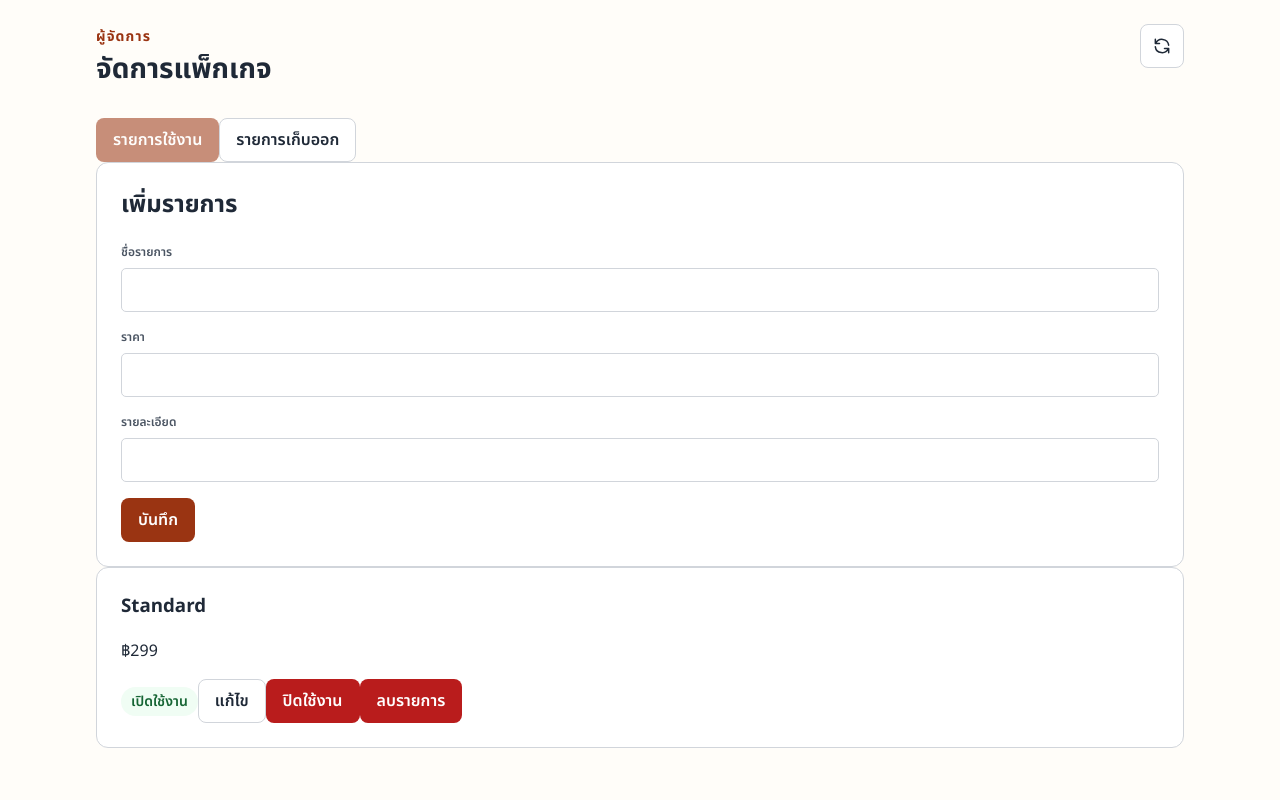
Test: removes a package only after confirmation and prevents duplicate delete requests
This screenshot has width=1280, height=800.
Expected: the heading "Standard" is shown, [121, 592, 206, 620]
Click the button "ลบรายการ" at (411, 701), box [360, 679, 462, 723]
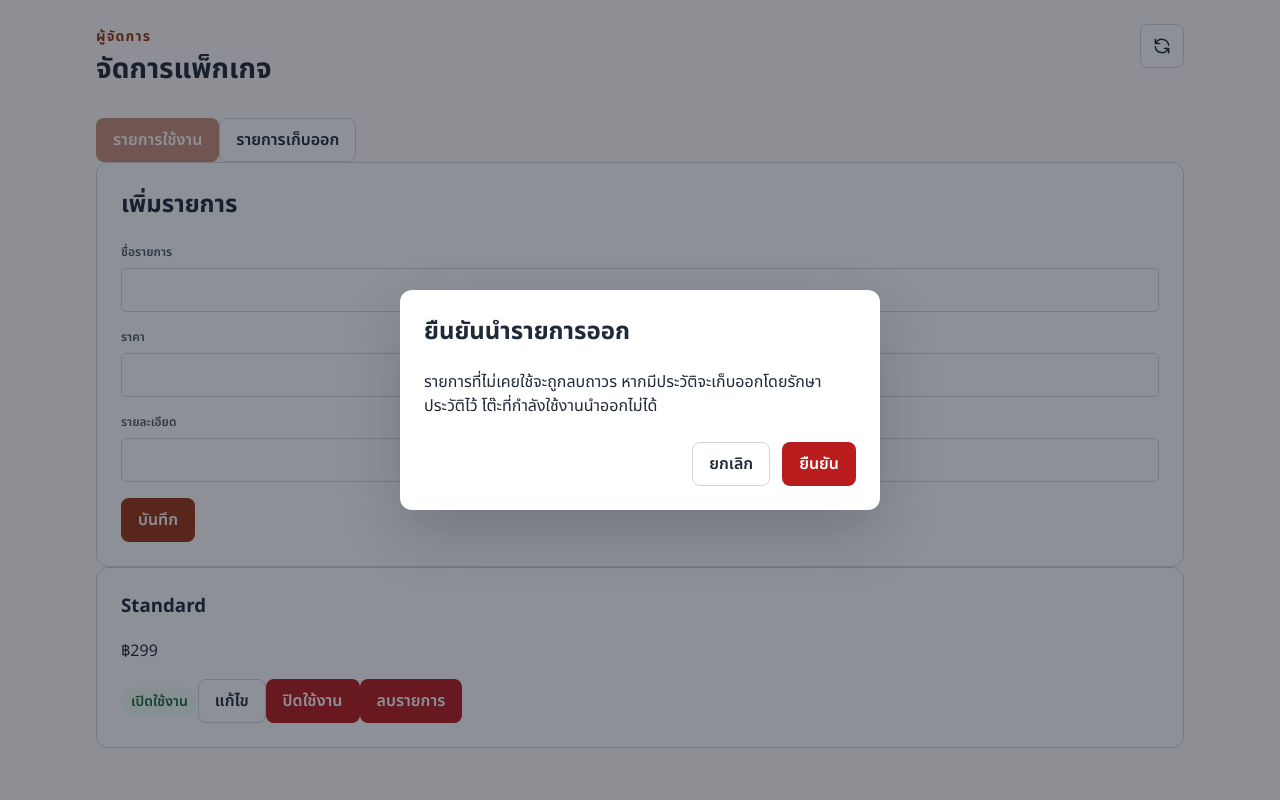
Click the button "ยืนยัน" at (819, 464), box [782, 442, 856, 486]
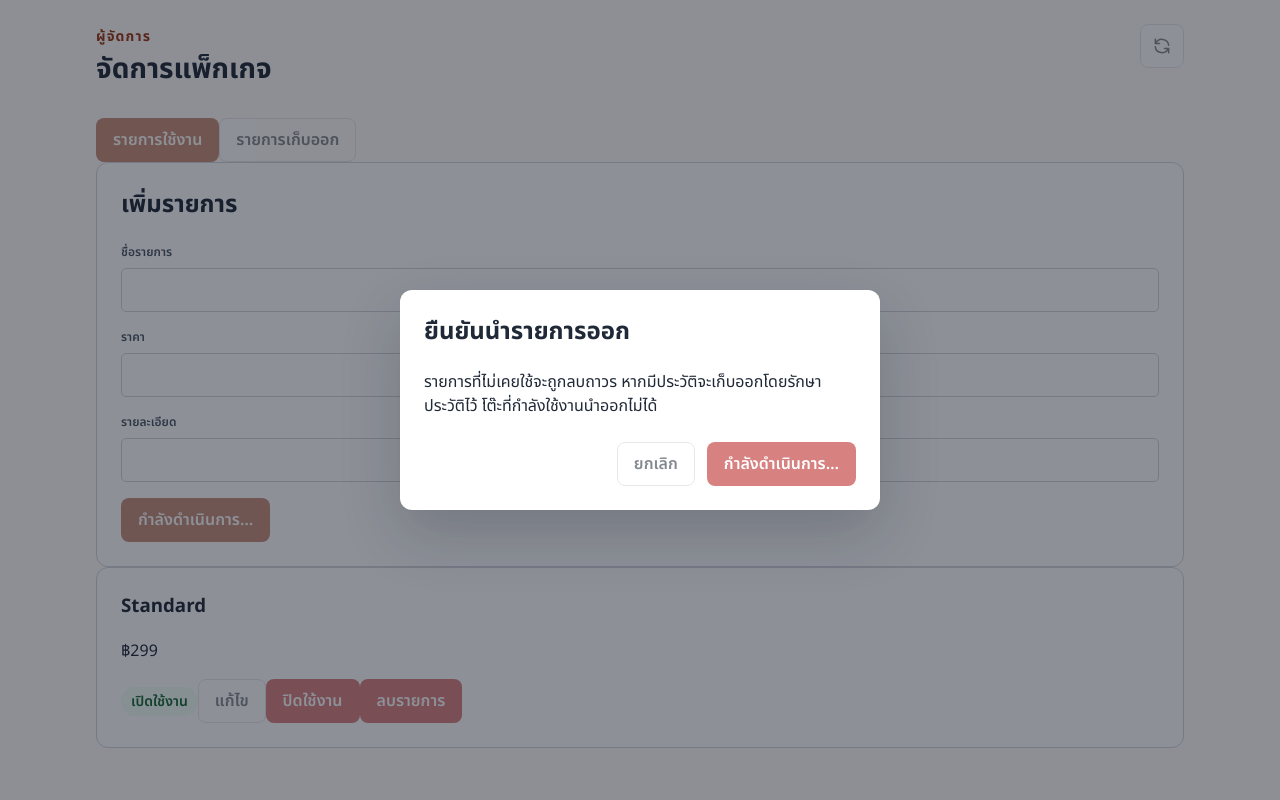
Click the button named "ยืนยัน" at (781, 464), box [707, 442, 856, 486]
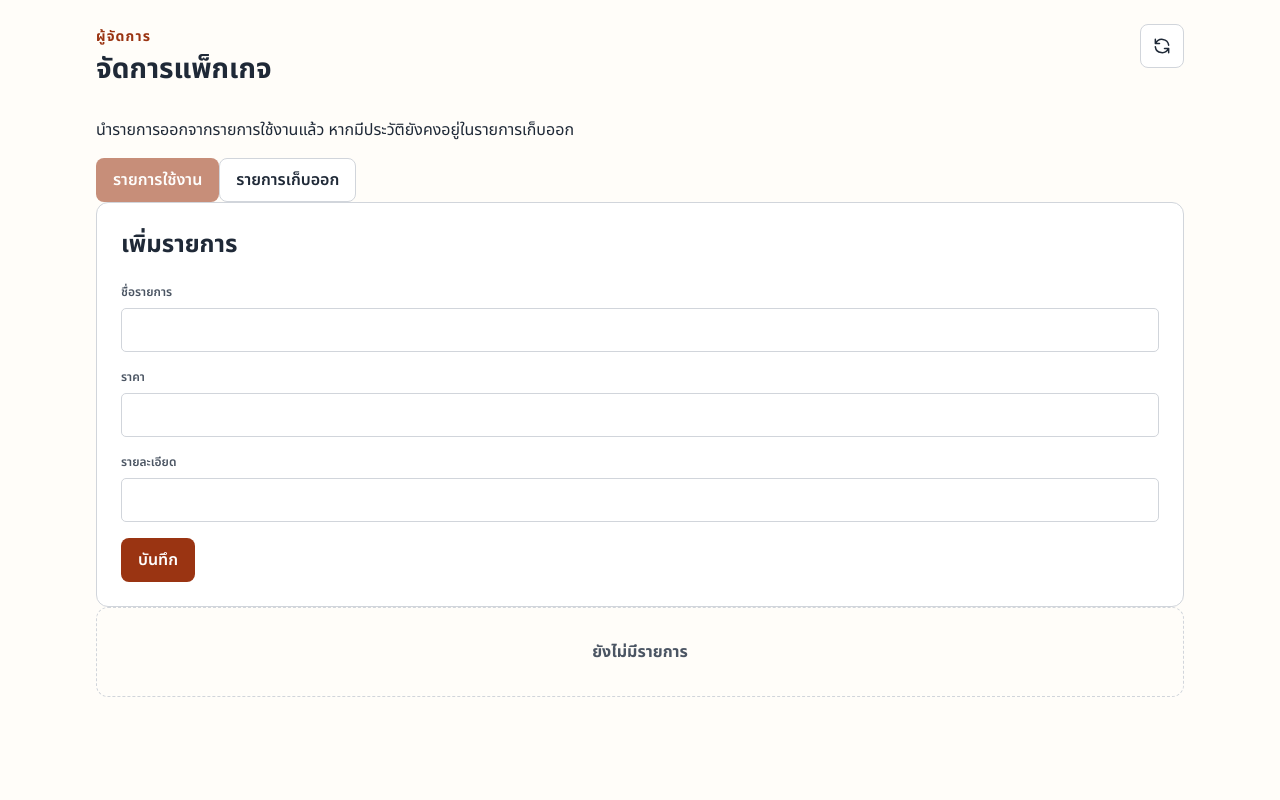
Expected: the text "นำรายการออกจากรายการใช้งานแล้ว หากมีประวัติยังคงอยู่ในรายการเก็บออก" is shown, [96, 118, 574, 142]
Expected: the heading "Standard" is gone
